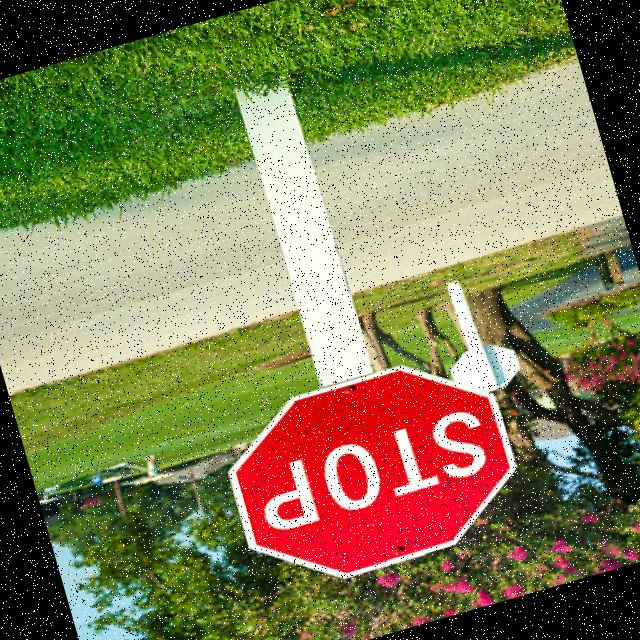stop: (197, 330, 548, 610)
